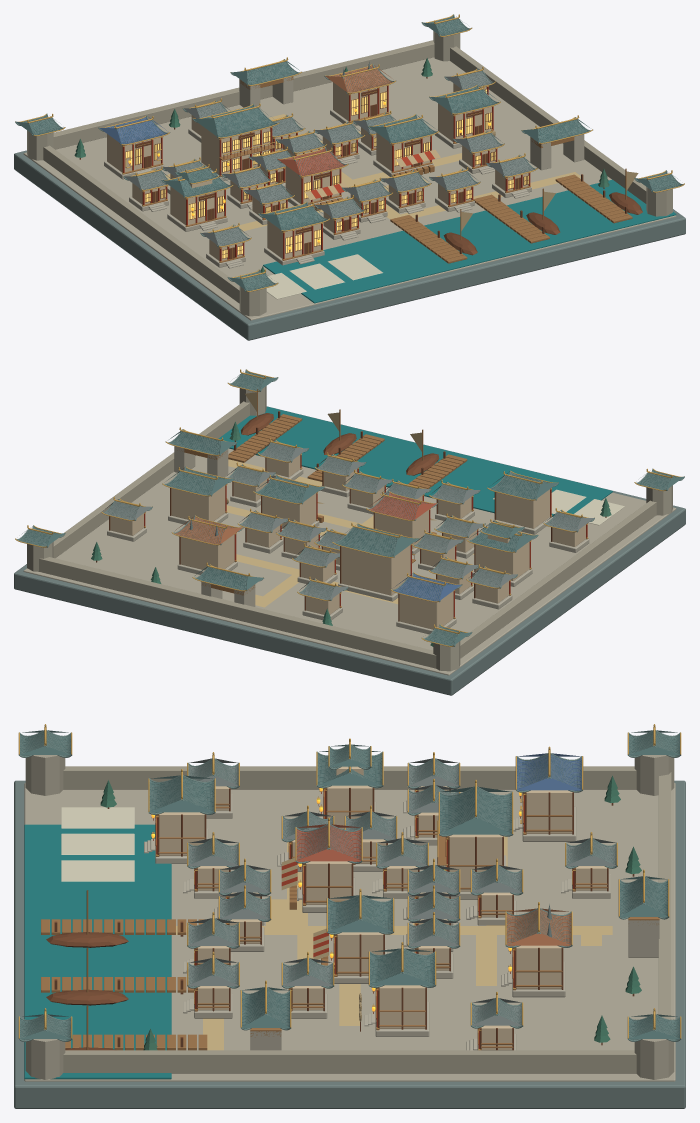
File: chengpu.glb
3 renders of one model, top to bottom at view 1: azimuth 30°, elevation 25°; view 2: azimuth 150°, elevation 25°; view 3: azimuth 270°, elevation 25°, orthographic. The views are drawn at different scales.
Visible parts, largest first — view 1: Terrain foundation geometry, Defensive perimeter geometry, adventurerGuild geometry, inn geometry, itemShop geometry, home geometry, bookstore geometry, tavern geometry, equipmentShop geometry, Local craft and landscape geometry, trainingGround geometry, adventureCheckpoint geometry (+19 smaller); view 2: Terrain foundation geometry, Defensive perimeter geometry, adventurerGuild geometry, bookstore geometry, home geometry, equipmentShop geometry, trainingGround geometry, inn geometry, itemShop geometry, tavern geometry, Streets and courtyards geometry, adventureCheckpoint geometry (+18 smaller); view 3: Terrain foundation geometry, Defensive perimeter geometry, Local craft and landscape geometry, adventurerGuild geometry, Streets and courtyards geometry, tavern geometry, trainingGround geometry, bookstore geometry, equipmentShop geometry, itemShop geometry, home geometry, inn geometry (+20 smaller).
Boxes of the visible parts, x1,y1,x2,y2 form: Terrain foundation geometry: [14, 57, 685, 340]; Defensive perimeter geometry: [15, 14, 684, 316]; adventurerGuild geometry: [192, 103, 279, 180]; inn geometry: [161, 164, 233, 231]; itemShop geometry: [367, 114, 440, 176]; home geometry: [258, 201, 330, 265]; bookstore geometry: [98, 115, 170, 179]; tavern geometry: [277, 147, 348, 210]; equipmentShop geometry: [324, 62, 395, 126]; Local craft and landscape geometry: [74, 58, 609, 299]; trainingGround geometry: [429, 84, 500, 148]; adventureCheckpoint geometry: [521, 115, 592, 170]; Terrain foundation geometry: [14, 389, 685, 695]; Defensive perimeter geometry: [15, 369, 684, 671]; adventurerGuild geometry: [332, 523, 419, 601]; bookstore geometry: [390, 572, 462, 634]; home geometry: [487, 470, 558, 534]; equipmentShop geometry: [171, 515, 243, 574]; trainingGround geometry: [162, 466, 233, 524]; inn geometry: [466, 519, 538, 586]; itemShop geometry: [253, 474, 324, 530]; tavern geometry: [366, 491, 437, 555]; Streets and courtyards geometry: [226, 459, 474, 607]; adventureCheckpoint geometry: [165, 427, 237, 477]; Terrain foundation geometry: [14, 780, 685, 1108]; Defensive perimeter geometry: [18, 724, 681, 1079]; Local craft and landscape geometry: [61, 775, 641, 1050]; adventurerGuild geometry: [437, 780, 513, 899]; Streets and courtyards geometry: [176, 836, 612, 1050]; tavern geometry: [281, 817, 362, 912]; trainingGround geometry: [359, 942, 436, 1036]; bookstore geometry: [513, 746, 583, 841]; equipmentShop geometry: [501, 902, 572, 997]; itemShop geometry: [313, 888, 394, 983]; home geometry: [144, 769, 215, 863]; inn geometry: [316, 738, 383, 829].
Size of the model in its own units: 69.14 by 11.72 by 64.
